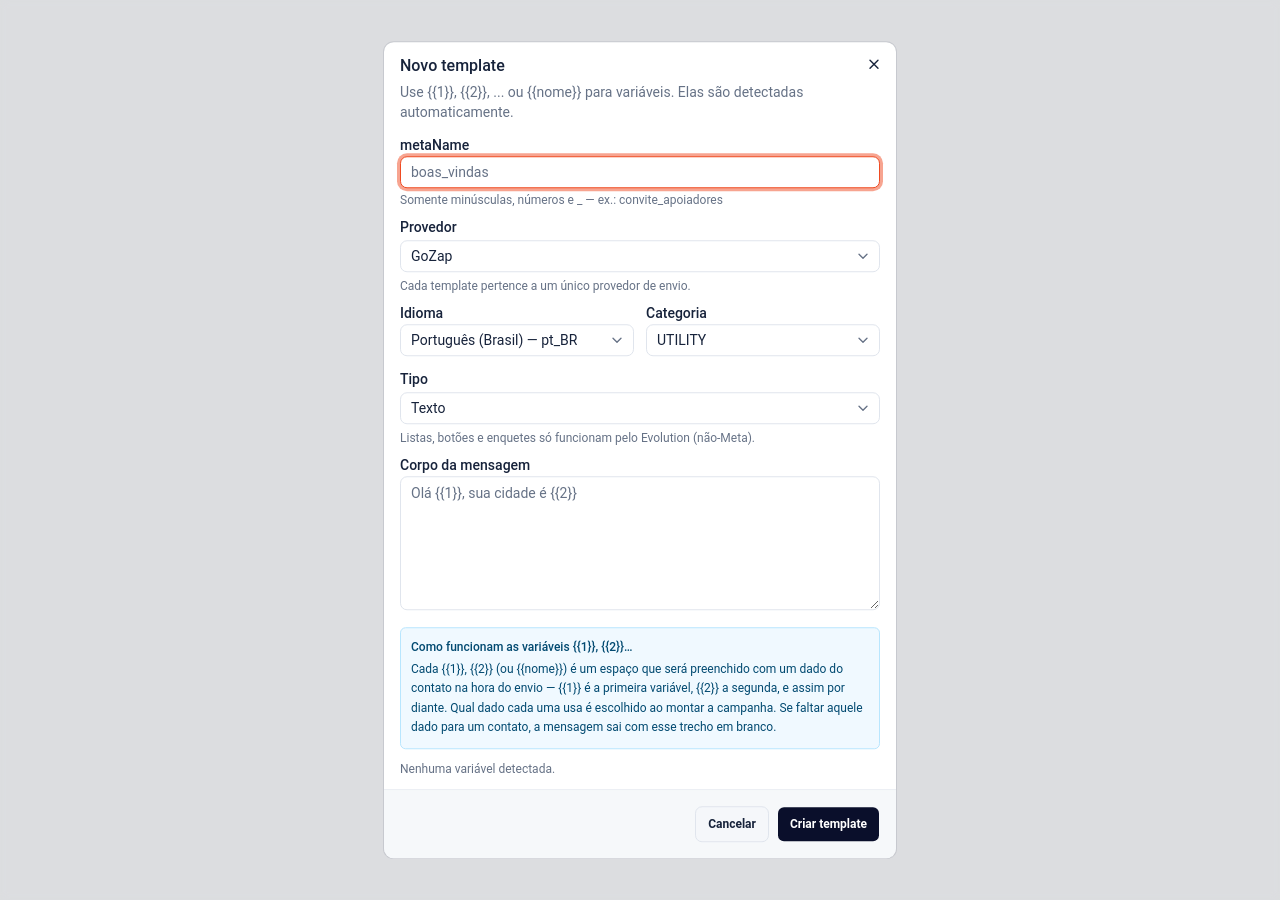
Scenario: TemplateFormDialog — language field › offers pt_BR, en_US and es_ES as options
Step 1. Click the dropdown with id "language" → x=517, y=340, box [400,324,634,356]
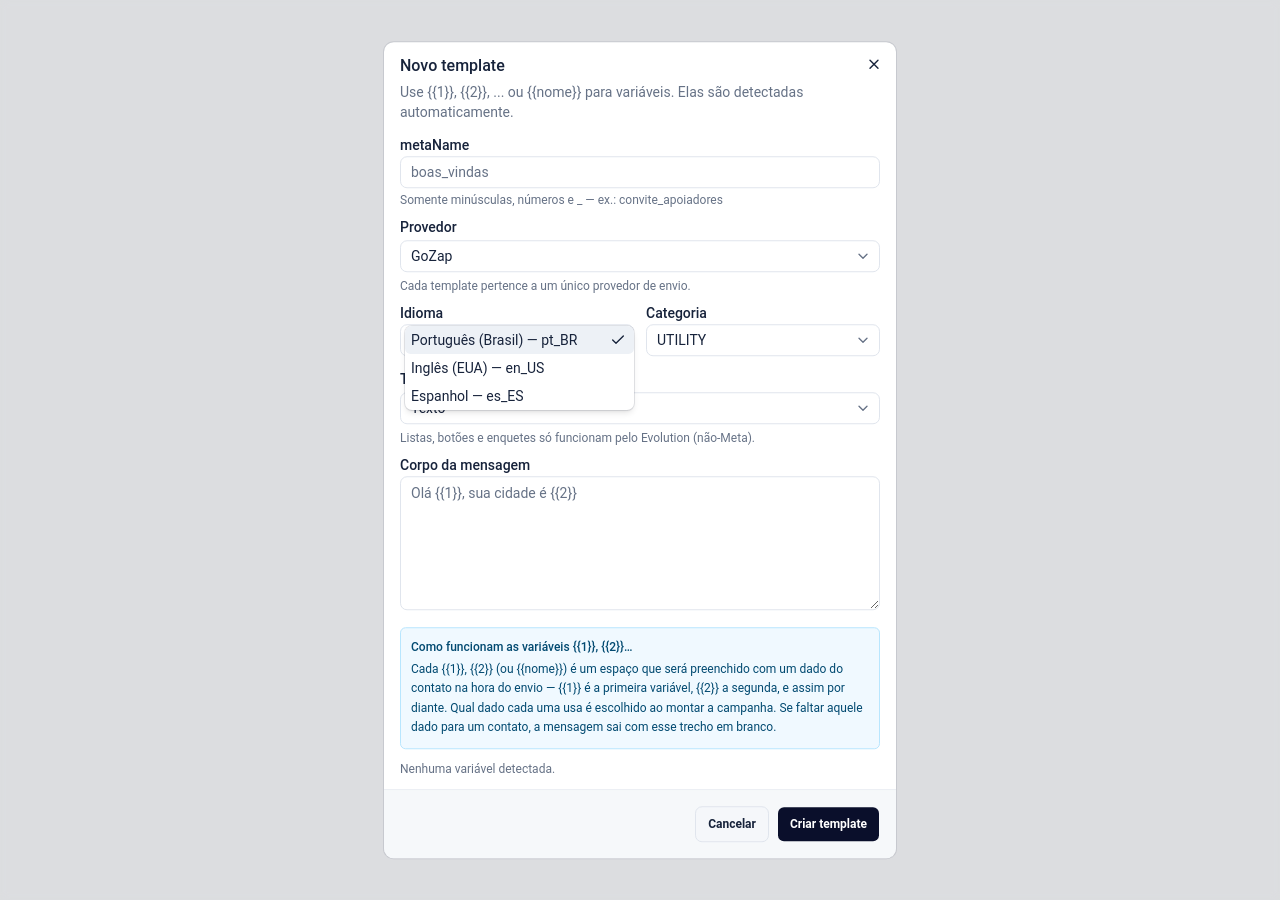
Check: the option "Português (Brasil) — pt_BR" is shown, box [405,326,634,354]
Check: the option "Inglês (EUA) — en_US" is shown, box [411,360,544,376]
Check: the option "Espanhol — es_ES" is shown, box [411,388,524,404]
